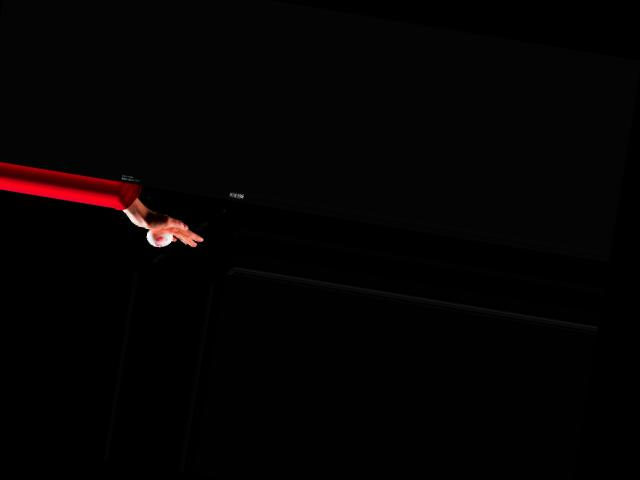egg: (144, 227, 172, 248)
